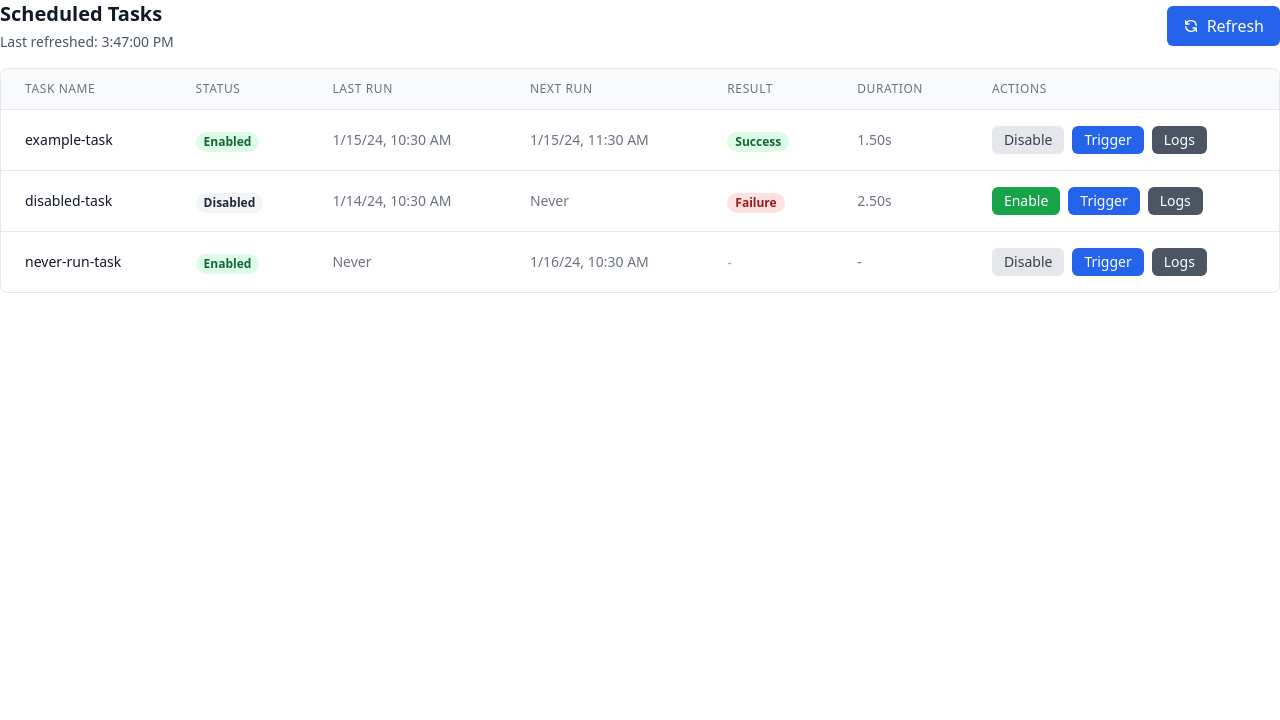
Test: ScheduledTasksTab › View logs modal opening and display › should open execution history modal when Logs button is clicked
Expected: the text "example-task" is shown, [25,130,113,149]
Click the button "Logs" in the row of "example-task" at [1179, 140], box [1152,126,1207,154]
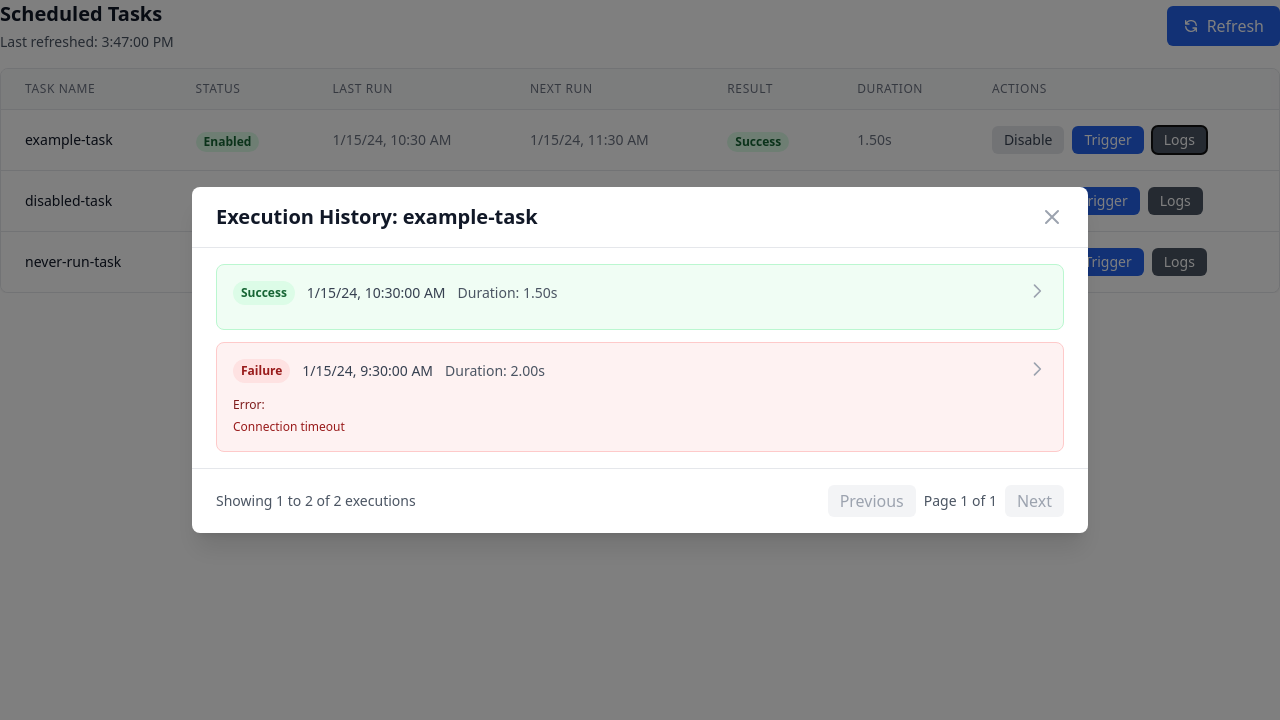
Expected: the heading "Execution History: example-task" is shown, [216,203,538,231]
